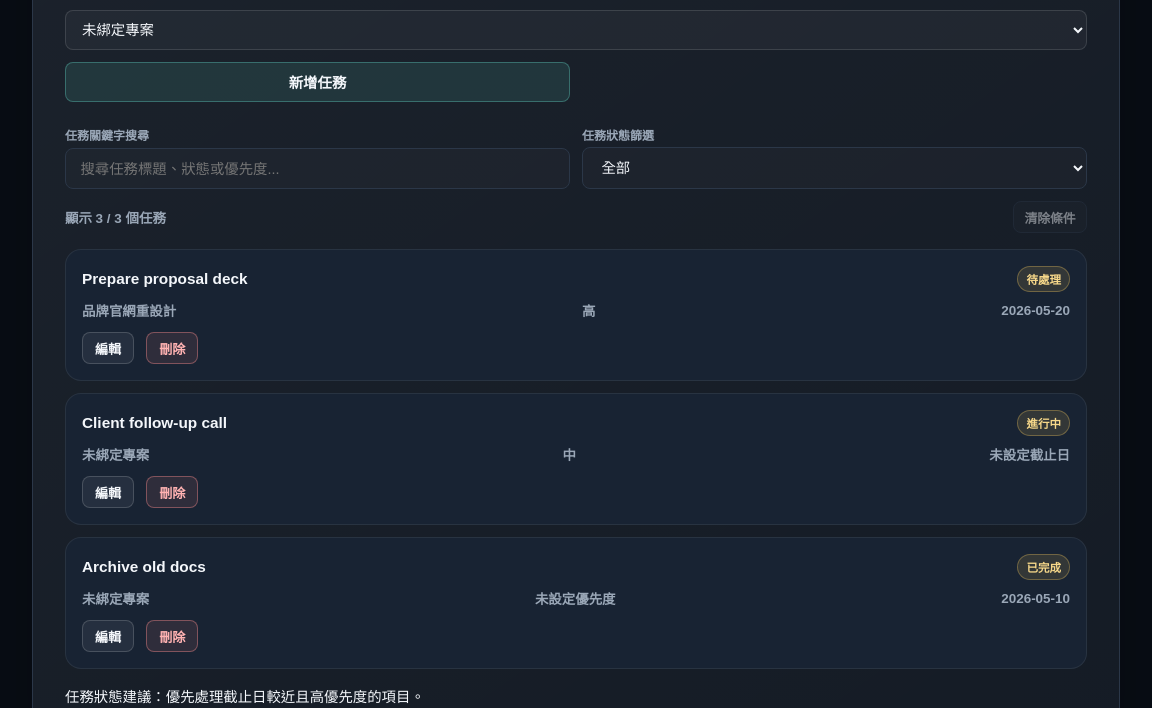
TasksPage Supabase integration behaviors › renders project selector names in create and edit forms
(page scrolled)
Expected: the number of elements with test id "tasks-status-badge" is 3, [1018,266,1070,292]; [1018,410,1070,436]; [1018,554,1070,580]
Expected: the dropdown with id "tasks-create-project-id" is shown, [65,10,1087,50]
Click the button with test id "tasks-edit-button" below "品牌官網重設計". click: (108, 348)
box: [82,332,134,364]
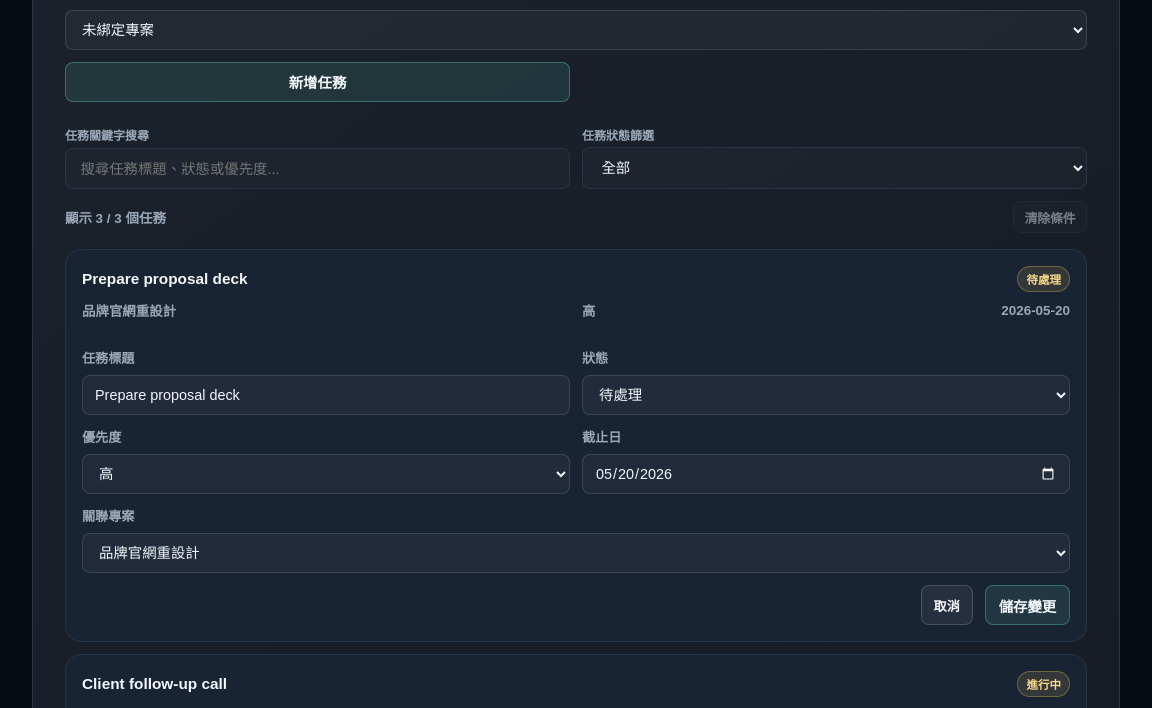
Result: the dropdown with id "tasks-edit-project-id-t-1" shows "品牌官網重設計" at [82,533,1070,573]
